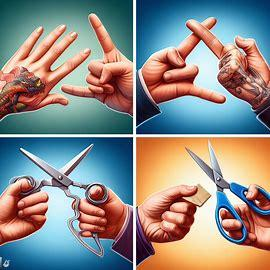Paper: (0, 23, 94, 127)
Stone: (136, 181, 202, 266)
